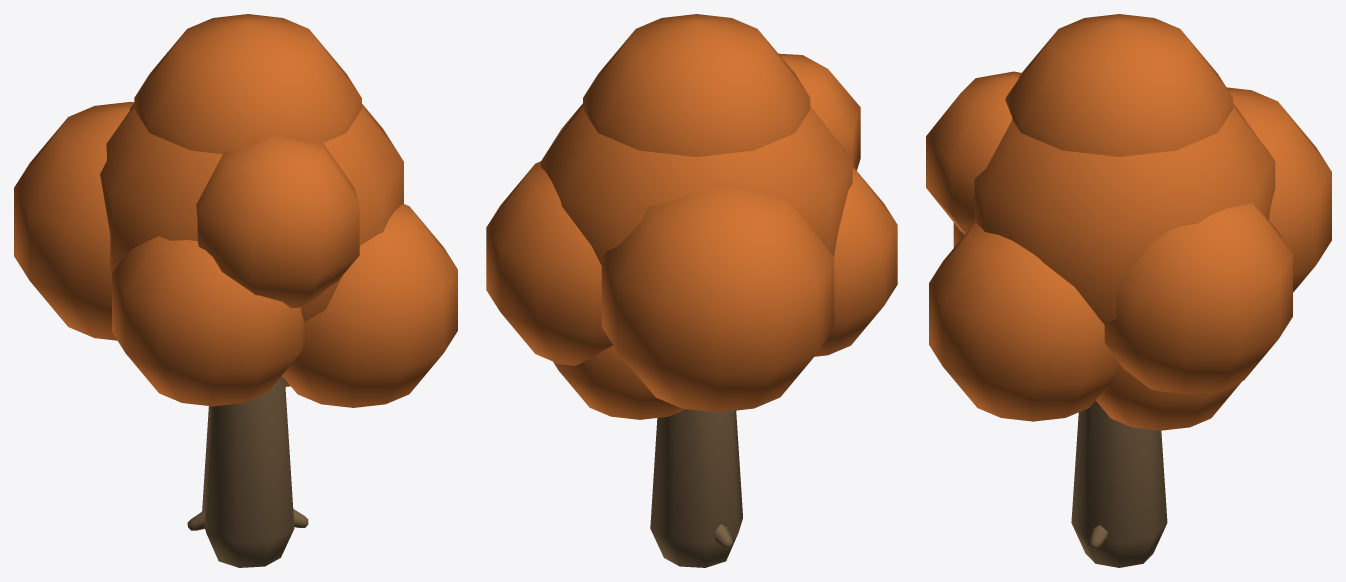
The model's file is prop_autumntrue_db7f.glb.
The picture shows the model from 3 angles, left to right: view 1: azimuth 30°, elevation 25°; view 2: azimuth 150°, elevation 25°; view 3: azimuth 270°, elevation 25°; orthographic projection.
Parts seen in each view (by area): view 1: prop_autumntrue_db7f; view 2: prop_autumntrue_db7f; view 3: prop_autumntrue_db7f.
Boxes of the visible parts, x1,y1,x2,y2 form: prop_autumntrue_db7f: [14, 14, 457, 567]; prop_autumntrue_db7f: [486, 14, 897, 567]; prop_autumntrue_db7f: [926, 14, 1331, 567].
Bounding box in the file's own units: 1.41 × 2.21 × 1.49.
1 material, 1 textured.
